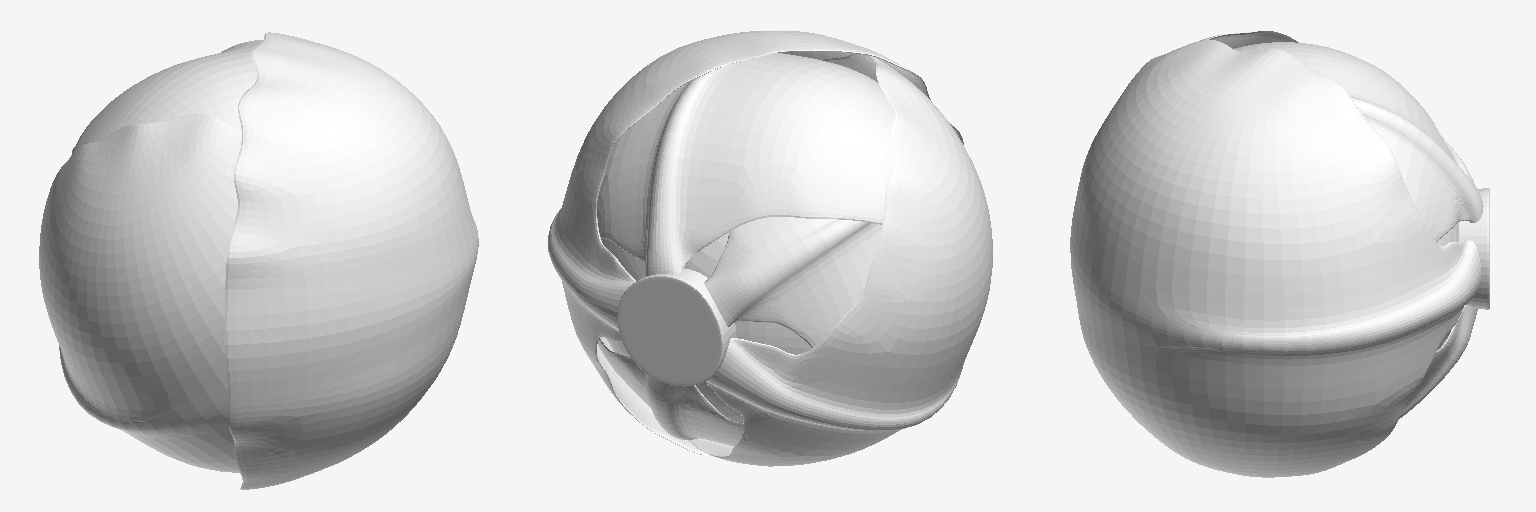
The model's file is 12209_Vegetable_v1_L3.obj.
3 views of the same model, side by side, from view 1: azimuth 30°, elevation 25°; view 2: azimuth 150°, elevation 25°; view 3: azimuth 270°, elevation 25° (orthographic).
Visible parts, largest first — view 1: Vegetable; view 2: Vegetable; view 3: Vegetable.
Part boxes in pixels (bbox=[...]): Vegetable: bbox=[39, 32, 478, 489]; Vegetable: bbox=[548, 31, 992, 466]; Vegetable: bbox=[1070, 31, 1489, 477].
Size of the model in its own units: 19.36 by 19.31 by 17.98.